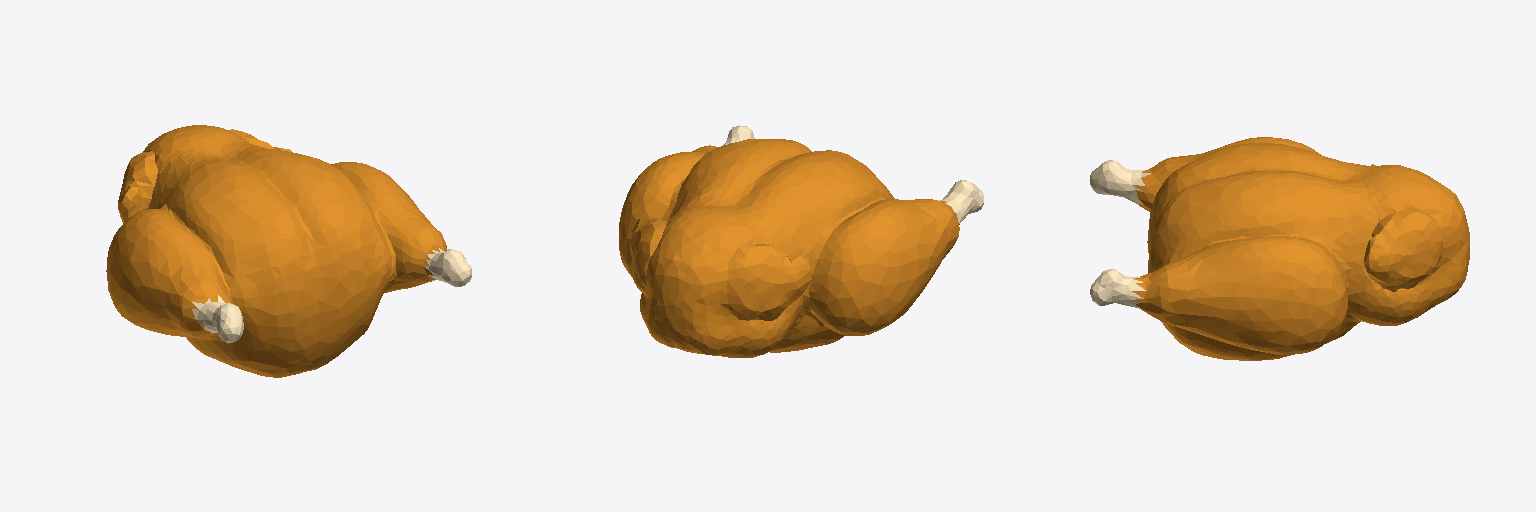
3 renders of one model, left to right at view 1: azimuth 30°, elevation 25°; view 2: azimuth 150°, elevation 25°; view 3: azimuth 270°, elevation 25°, orthographic.
Visible parts, largest first — view 1: Chicken:Mesh; view 2: Chicken:Mesh; view 3: Chicken:Mesh.
Part boxes in pixels (x1,y1,x2,y2): Chicken:Mesh: (106, 125, 471, 377); Chicken:Mesh: (619, 125, 983, 357); Chicken:Mesh: (1090, 137, 1469, 360).
Size of the model in its own units: 4.71 by 2.92 by 5.43.
Materials: 1 (1 with a texture image).